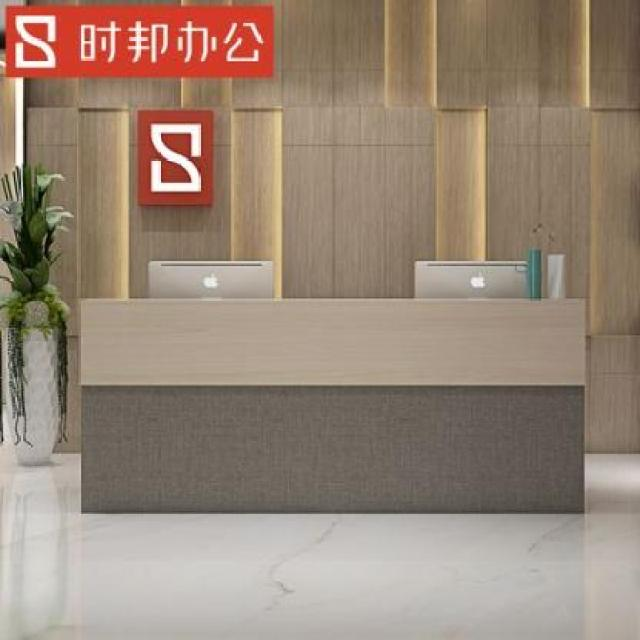frontdesk: (66, 268, 606, 526)
